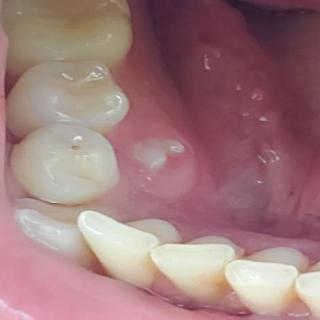maligned: (16, 174, 120, 271), (121, 111, 192, 202)
